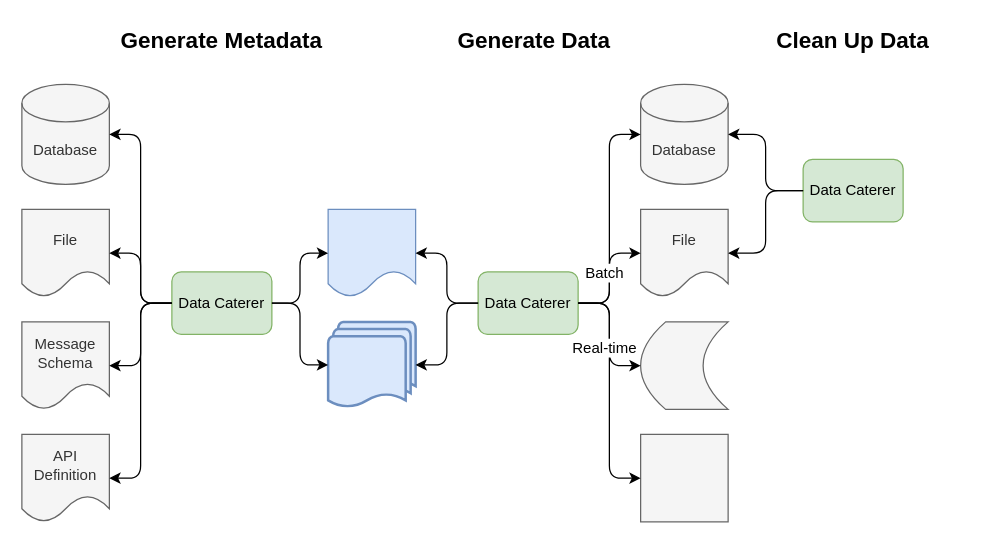
Image size: 988x544. Some labels were removed from this diagram. Each missing label, with the centre of its shape:
"API" belongs at (x=683, y=477).
"Message Queue" belongs at (x=683, y=365).
"Plan" belongs at (x=371, y=252).
"Task(s)" belongs at (x=371, y=364).
